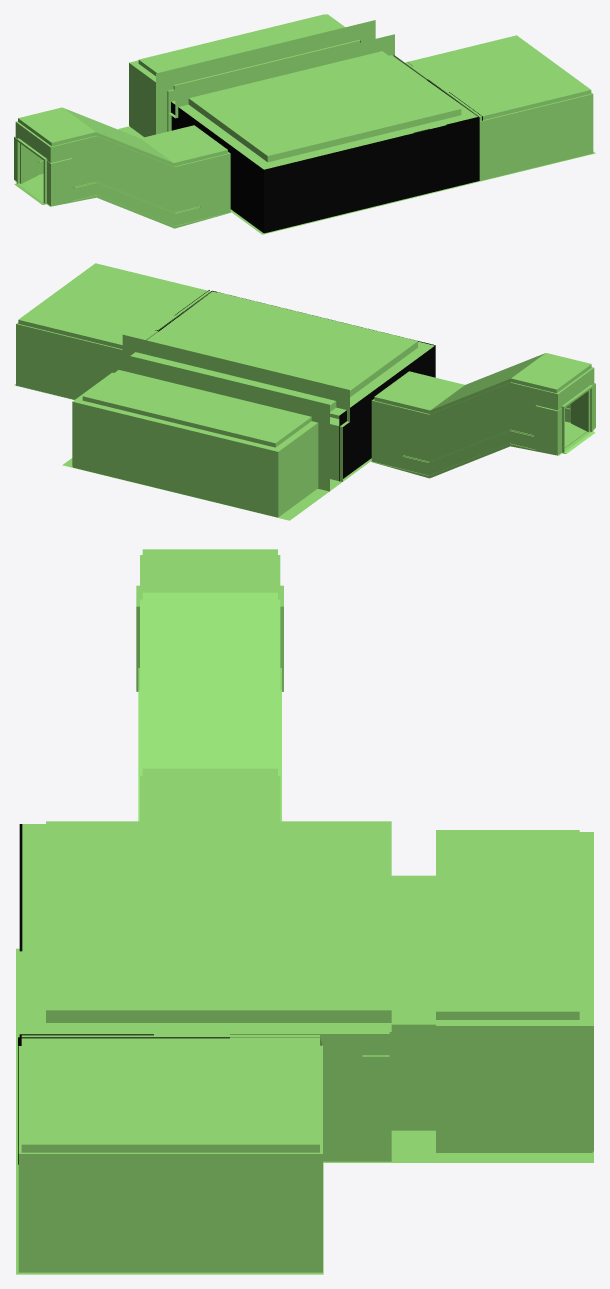
File: CR_RoomFloor_002_Collider.fbx
3 renders of one model, top to bottom at view 1: azimuth 30°, elevation 25°; view 2: azimuth 150°, elevation 25°; view 3: azimuth 270°, elevation 25°, orthographic. The views are drawn at different scales.
Parts seen in each view (by area): view 1: CR_RoomFloor_002_Collider; view 2: CR_RoomFloor_002_Collider; view 3: CR_RoomFloor_002_Collider.
Part boxes in pixels (x1,y1,x2,y2): CR_RoomFloor_002_Collider: [14, 14, 595, 234]; CR_RoomFloor_002_Collider: [14, 263, 595, 520]; CR_RoomFloor_002_Collider: [16, 549, 593, 1274].
Bounding box in the file's own units: 2539 × 538 × 1224.
